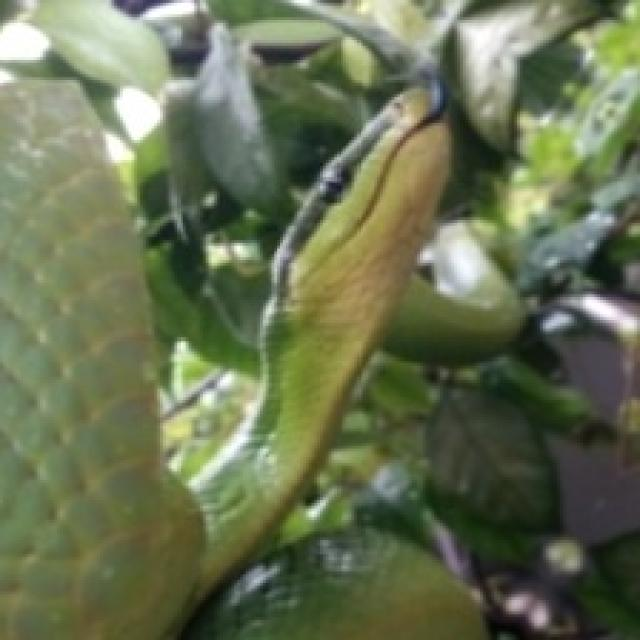red-tailed green ratsnake: (0, 70, 450, 639), (182, 532, 485, 639)
